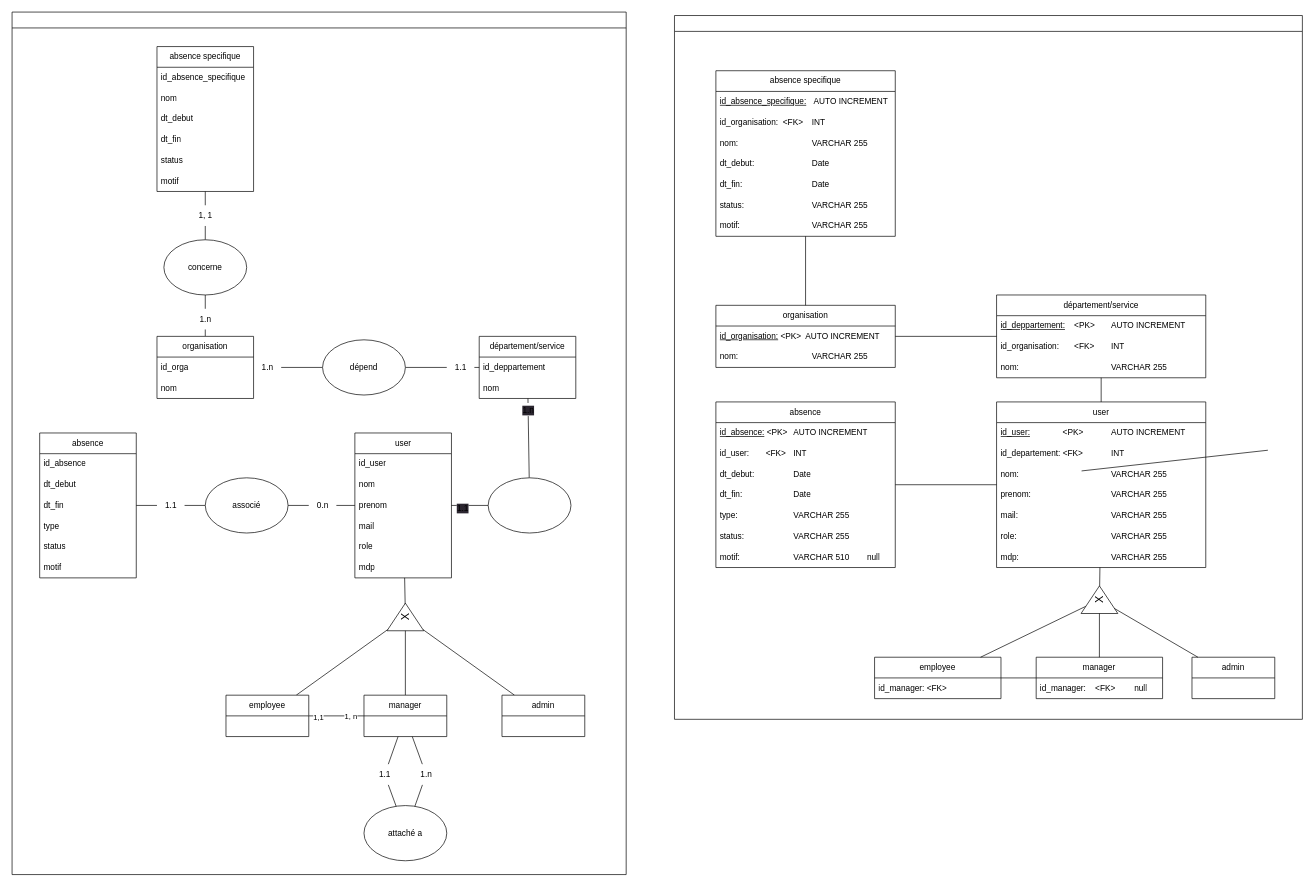
Image size: 1314x887. Some labels were removed from this diagram. Here are the shapes that lost their labels. From the top down, the box of each, then its label:
(674, 15, 1302, 719): MPD
(11, 11, 626, 875): MCD
(487, 477, 571, 533): appartient
